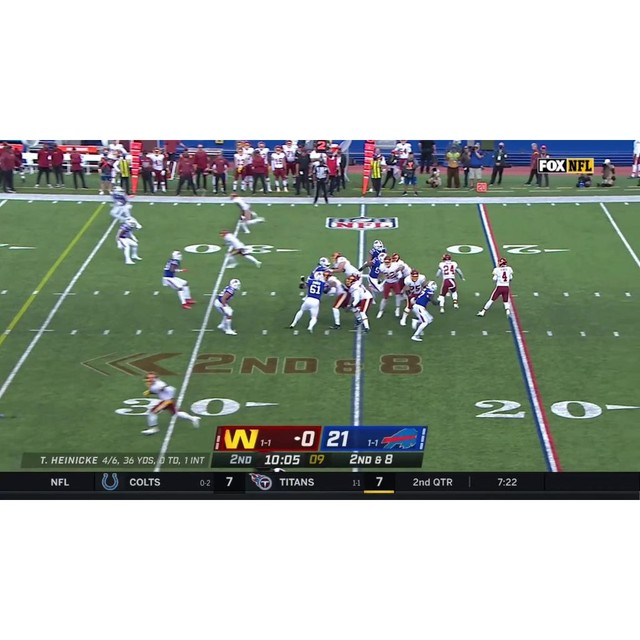american-football-player: (141, 371, 200, 433), (288, 271, 328, 334), (475, 258, 515, 318), (159, 249, 197, 309), (407, 280, 439, 341), (375, 258, 404, 321), (435, 252, 465, 311), (219, 229, 262, 269), (212, 277, 242, 334), (399, 267, 428, 324), (322, 269, 349, 329), (229, 192, 266, 235), (346, 274, 373, 332), (115, 216, 144, 266), (108, 185, 132, 222), (332, 251, 360, 281), (309, 256, 331, 279)
referee: (310, 156, 331, 207)
